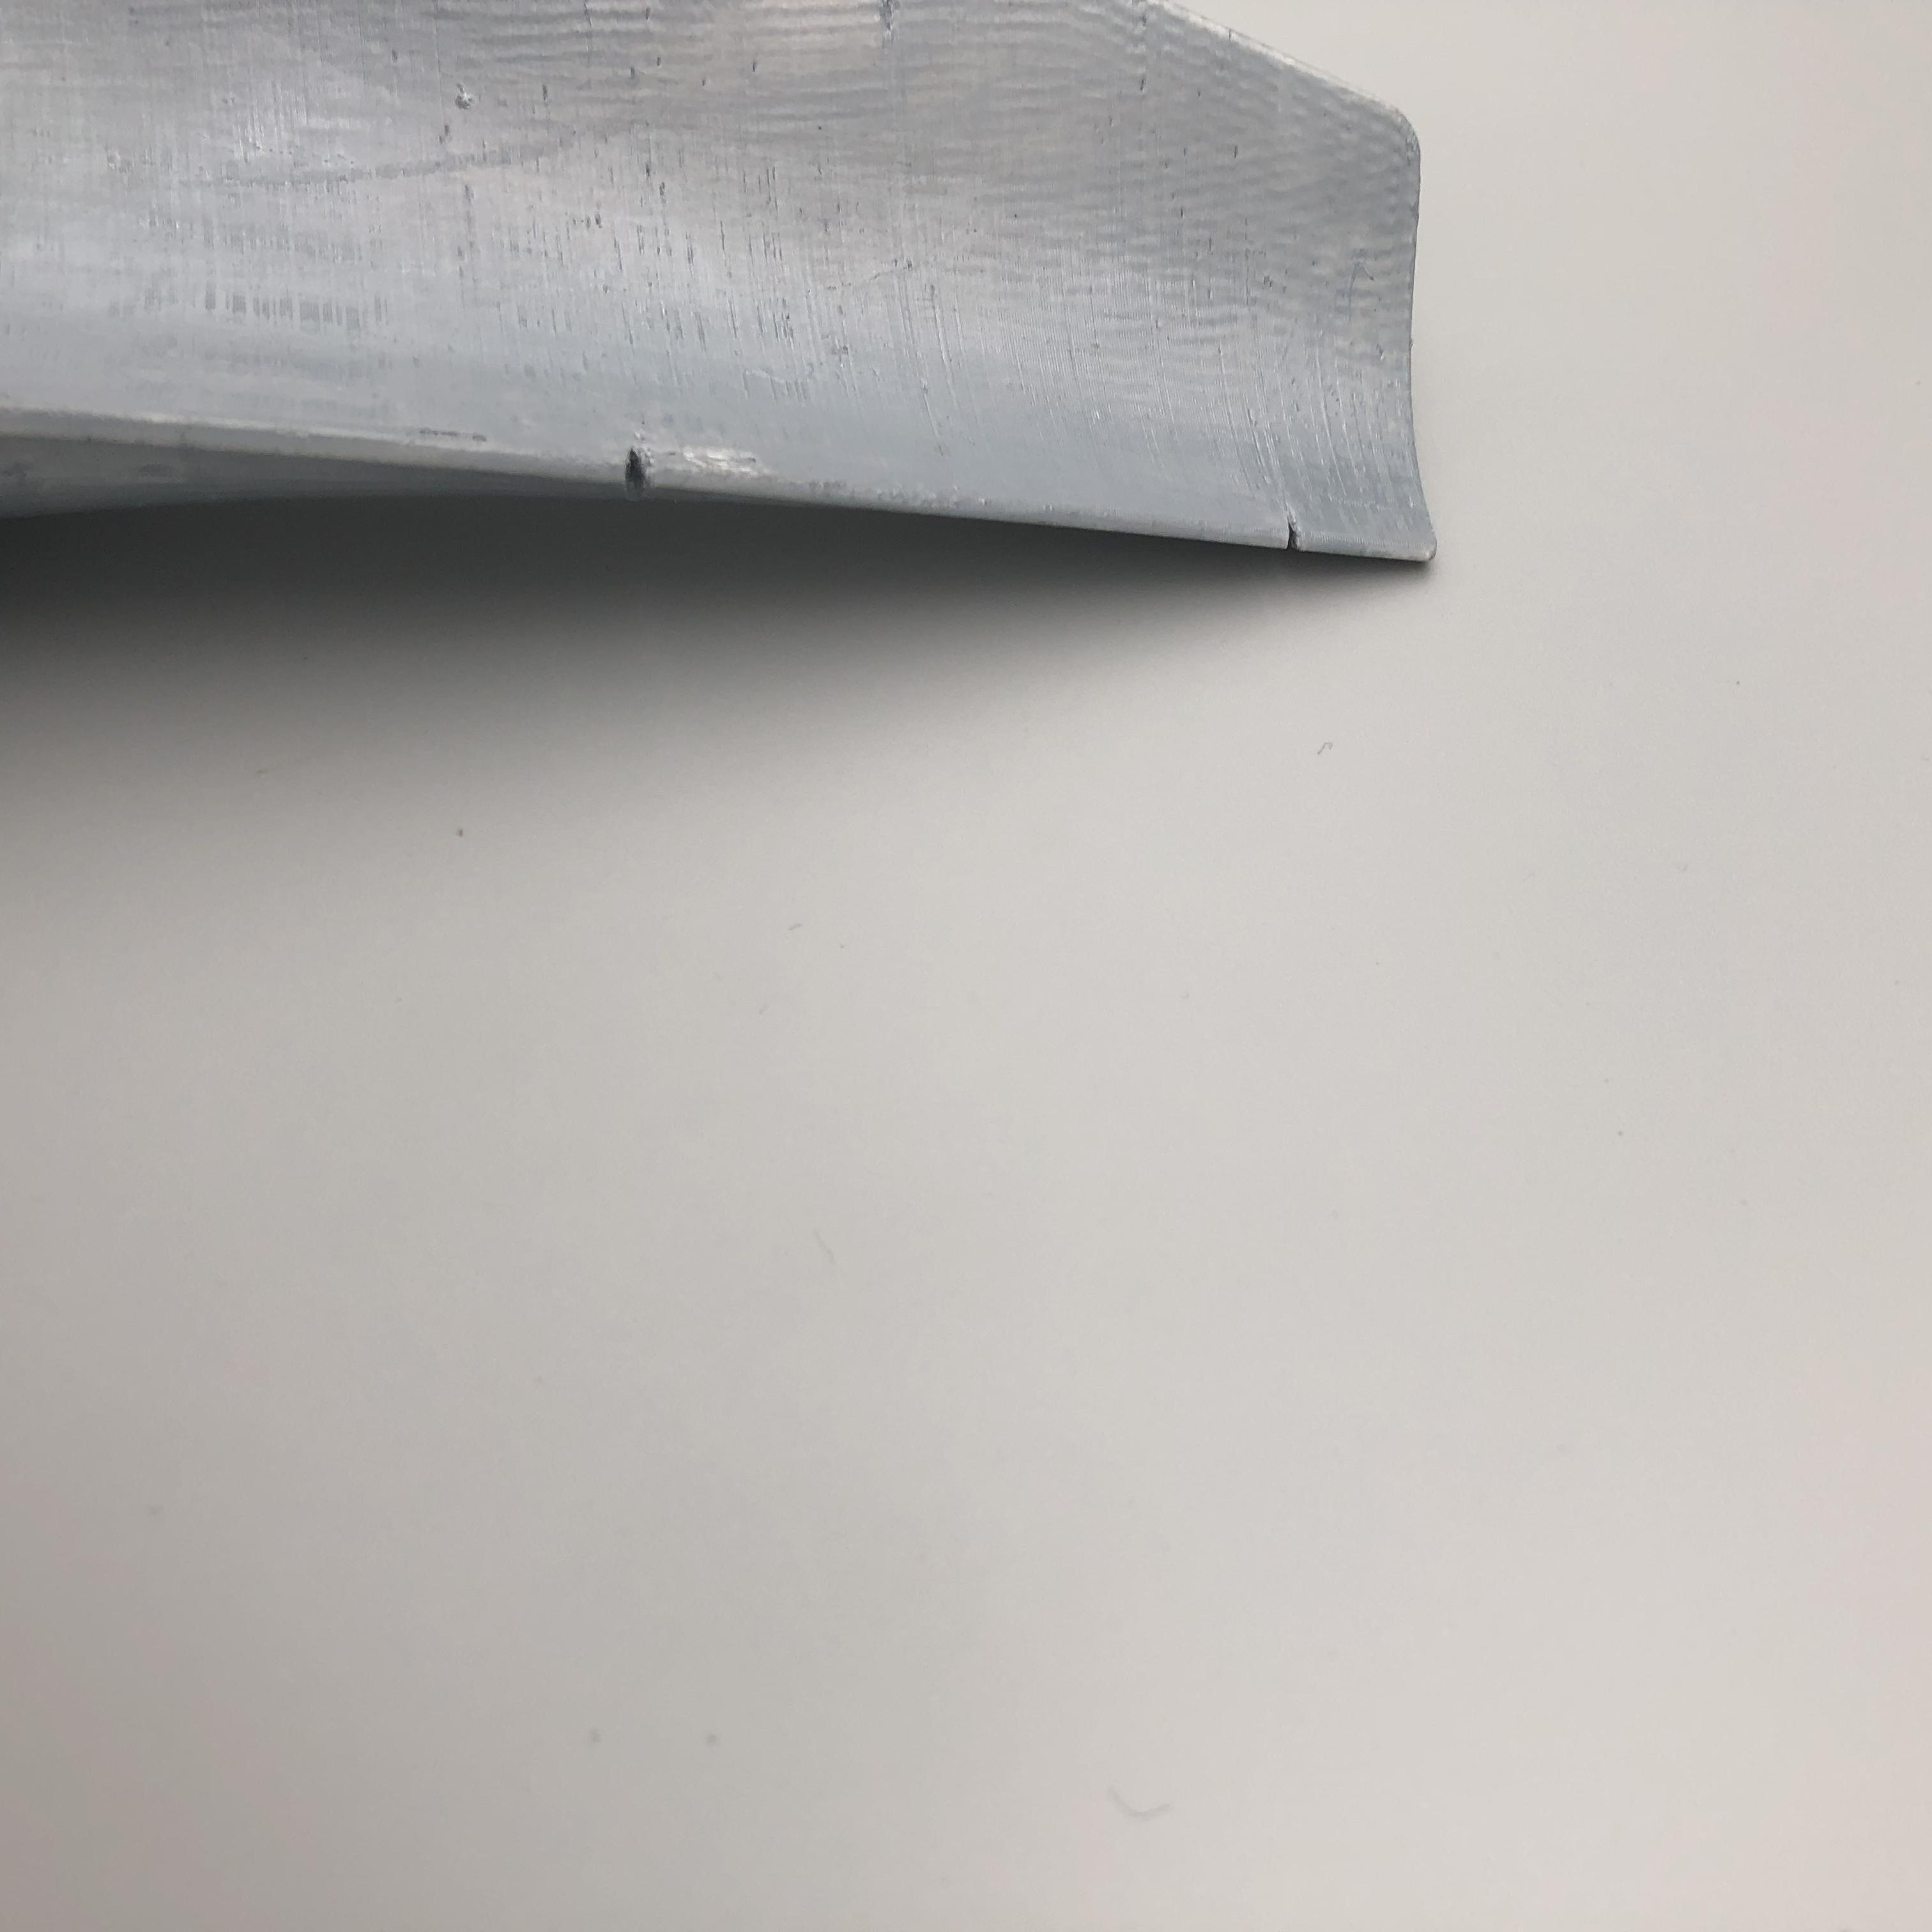groove: (609, 453, 688, 494), (1281, 515, 1309, 552), (874, 2, 902, 34)
